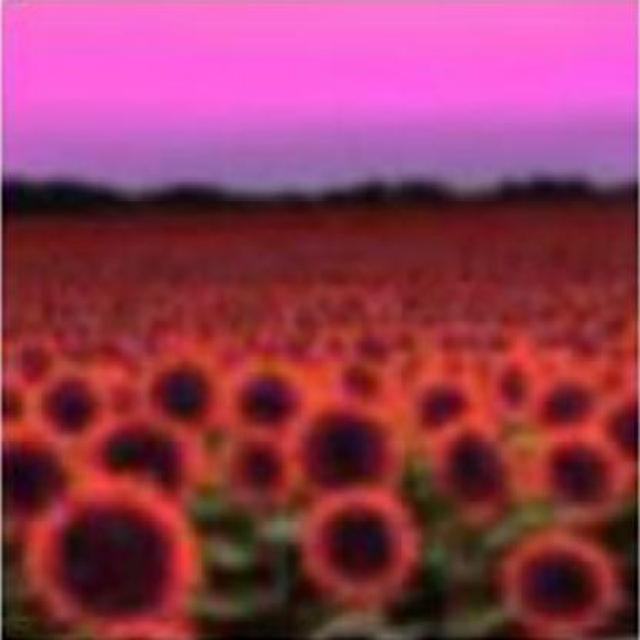sunflower: (32, 481, 187, 640), (504, 524, 617, 640), (303, 487, 418, 598)
